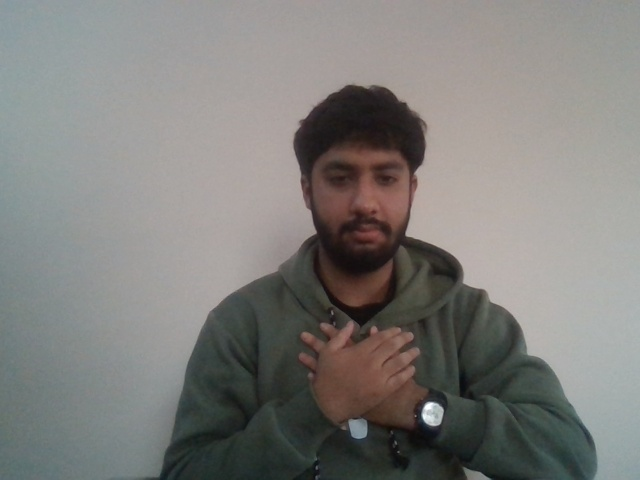Please: (294, 313, 428, 418)
